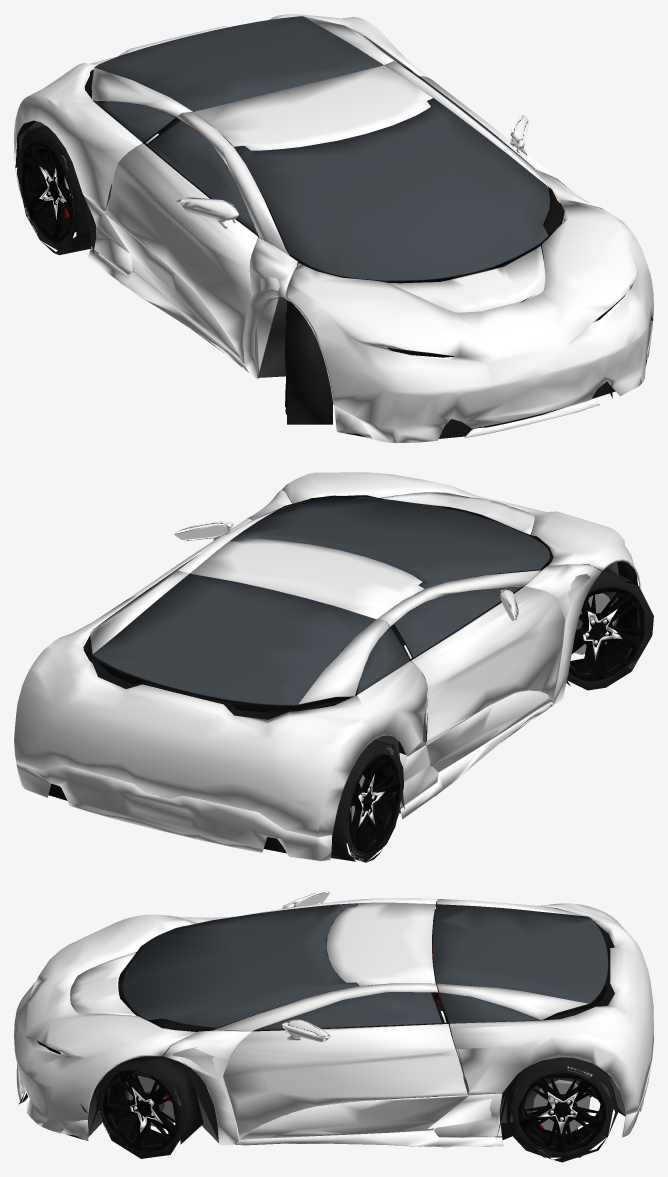
Rendered from sports-mid.glb.
3 views of the same model, one above another, from view 1: azimuth 30°, elevation 25°; view 2: azimuth 150°, elevation 25°; view 3: azimuth 270°, elevation 25° (orthographic). The views are drawn at different scales.
Parts seen in each view (by area): view 1: BodyHood, BodyWindshield, BodyRearwindow, BodyDoorRColor1, BodyRearPanelsColor1, BodyRoofPanel, BodyPillars, wheelRR, BodyPanelsColor2, BodyHoodTopgrill, object 78, BodyDoorRWindow (+8 smaller); view 2: BodyRearPanelsColor1, BodyRearwindow, BodyWindshield, BodyPanelsColor2, BodyDoorRColor1, BodyRoofPanel, BodyHood, BodyPillars, wheelRR, WheelFrontRRim, BodyDoorRColor2, BodyDoorRWindow (+7 smaller); view 3: BodyWindshield, BodyRearPanelsColor1, BodyDoorLColor1, BodyHood, BodyRearwindow, wheelRL, BodyRoofPanel, BodyPillars, BodyDoorLColor2, BodyPanelsColor2, WheelFrontLRim, BodyDoorLWindow (+9 smaller).
Part boxes in pixels (x1,y1,x2,y2): BodyHood: [284, 199, 653, 442]; BodyWindshield: [234, 98, 549, 280]; BodyRearwindow: [94, 16, 383, 111]; BodyDoorRColor1: [104, 143, 257, 363]; BodyRearPanelsColor1: [14, 14, 428, 211]; BodyRoofPanel: [194, 65, 432, 150]; BodyPillars: [176, 61, 600, 379]; wheelRR: [17, 126, 91, 255]; BodyPanelsColor2: [15, 168, 652, 439]; BodyHoodTopgrill: [388, 246, 545, 312]; object 78: [287, 301, 609, 424]; BodyDoorRWindow: [148, 120, 257, 235]; BodyRearPanelsColor1: [14, 571, 427, 837]; BodyRearwindow: [93, 573, 375, 705]; BodyWindshield: [230, 497, 549, 588]; BodyPanelsColor2: [16, 702, 553, 861]; BodyDoorRColor1: [411, 587, 564, 744]; BodyRoofPanel: [190, 538, 424, 619]; BodyHood: [279, 472, 640, 588]; BodyPillars: [176, 490, 601, 704]; wheelRR: [331, 740, 403, 862]; WheelFrontRRim: [569, 587, 644, 681]; BodyDoorRColor2: [426, 690, 551, 771]; BodyDoorRWindow: [394, 586, 521, 657]; BodyWindshield: [122, 903, 358, 1027]; BodyRearPanelsColor1: [436, 899, 653, 1114]; BodyDoorLColor1: [223, 1024, 468, 1139]; BodyHood: [14, 914, 196, 1133]; BodyRearwindow: [432, 904, 608, 1003]; wheelRL: [506, 1057, 618, 1162]; BodyRoofPanel: [326, 902, 435, 986]; BodyPillars: [163, 898, 438, 1145]; BodyDoorLColor2: [240, 1095, 467, 1139]; BodyPanelsColor2: [16, 1046, 653, 1147]; WheelFrontLRim: [102, 1070, 178, 1151]; BodyDoorLWindow: [255, 992, 441, 1030].
Bounding box in the file's own units: 2.59 × 1.17 × 4.45.
8 materials, 1 textured.
